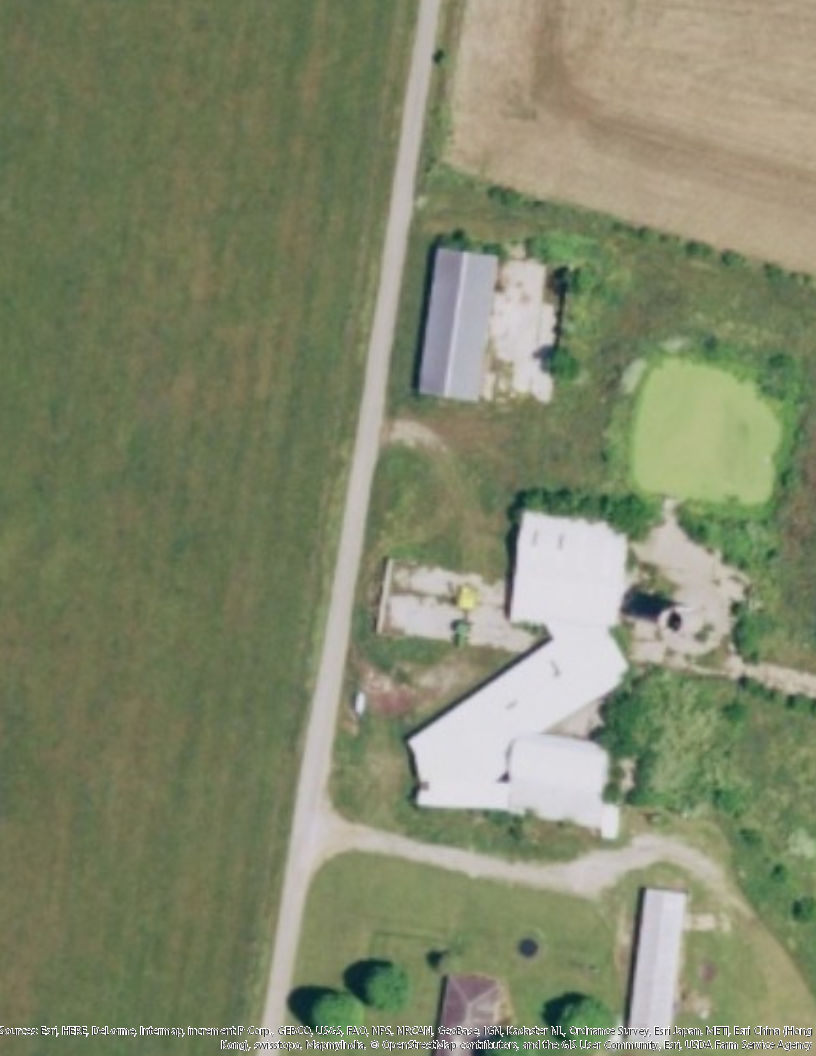cafo: (395, 500, 648, 837), (396, 236, 516, 410), (627, 876, 698, 1051)
